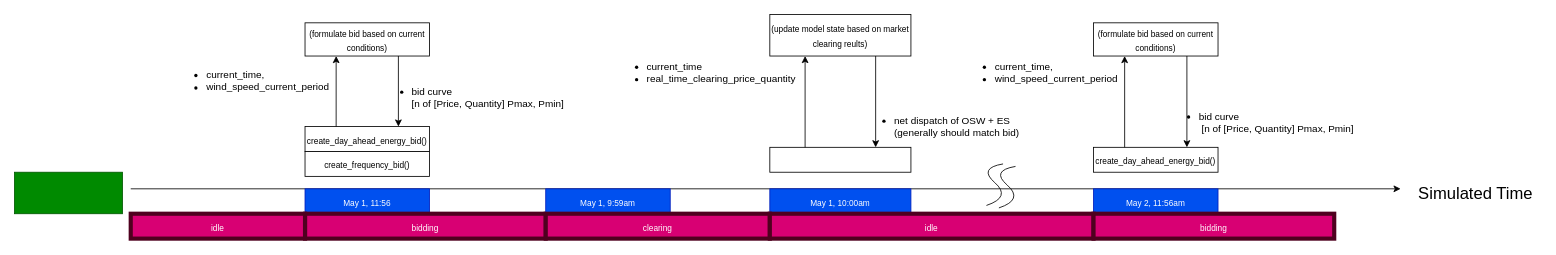
This 1556x255 diagram has some shape labels left out. The centre of each missing label's shape, as x and y in pixels:
DA and Reserves Market: (x=68, y=192)
gather_reserves_clearing_results(): (x=840, y=159)
